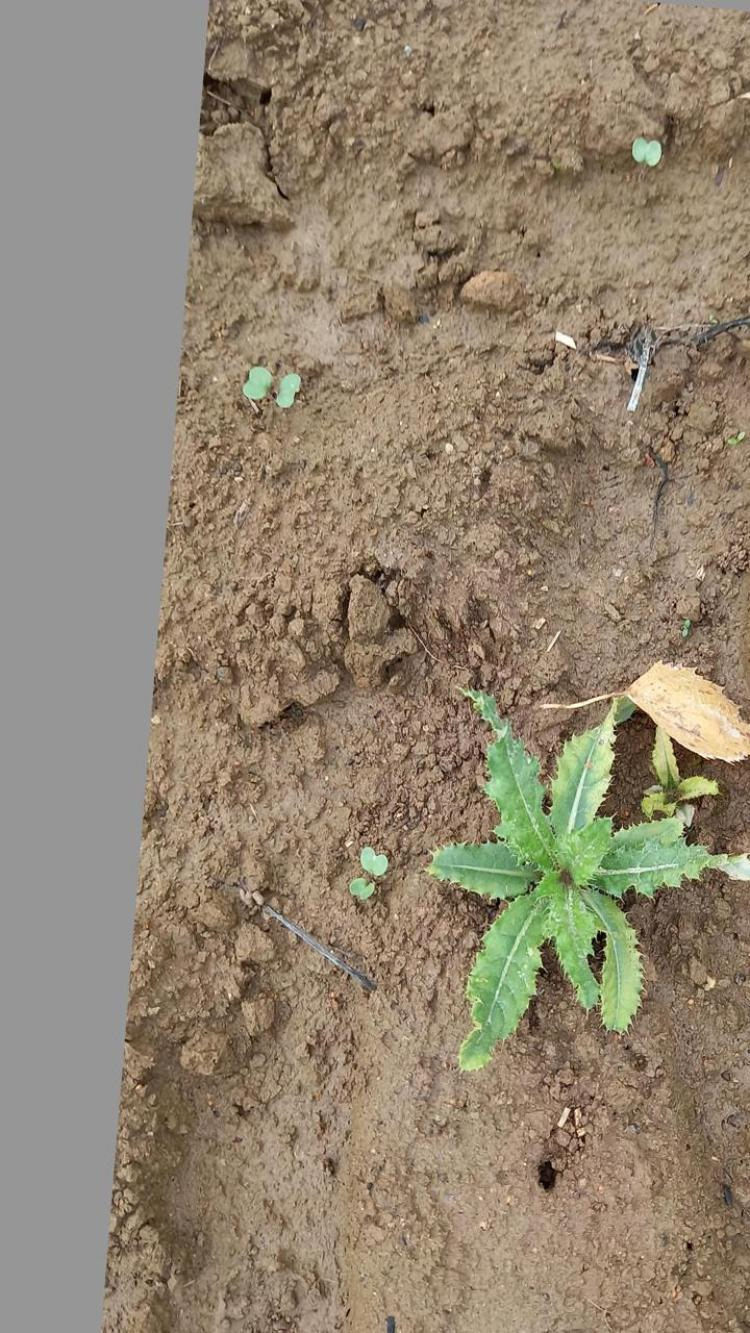bodyak: (431, 683, 750, 1079)
